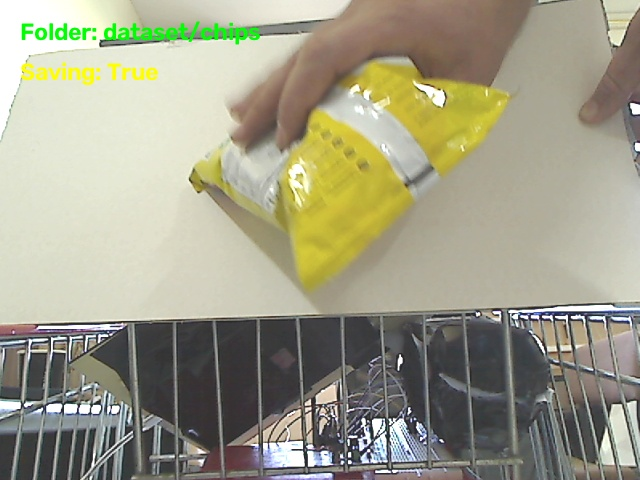chips: (190, 61, 508, 289)
